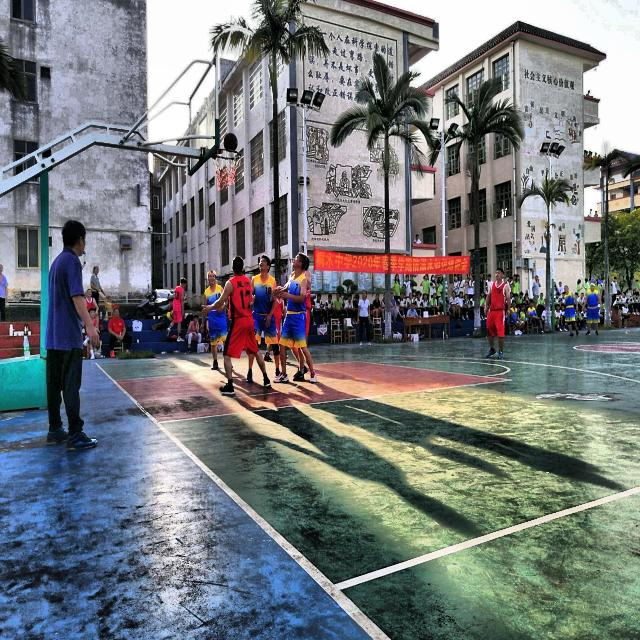board: (223, 132, 238, 152)
rim: (214, 149, 242, 189)
